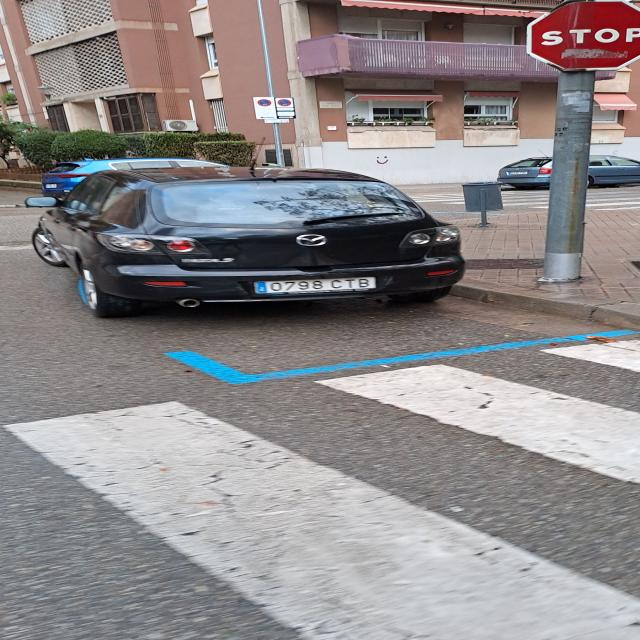license_plate-34Td: (254, 277, 376, 294)
